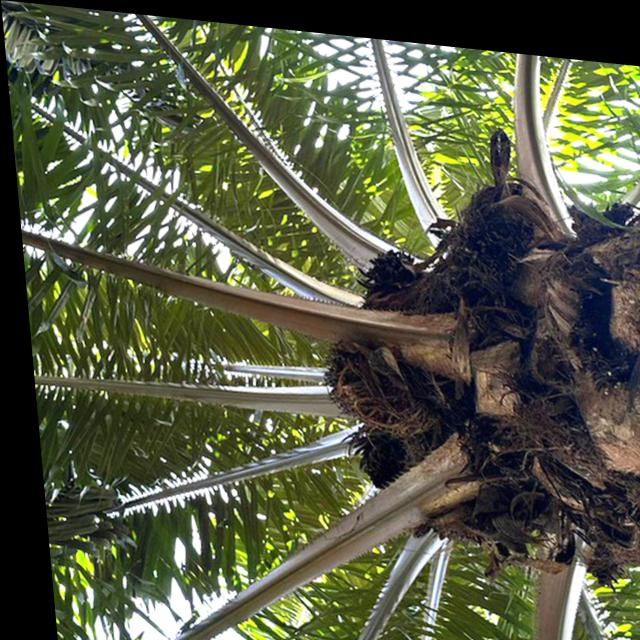ripe: (301, 319, 435, 432)
